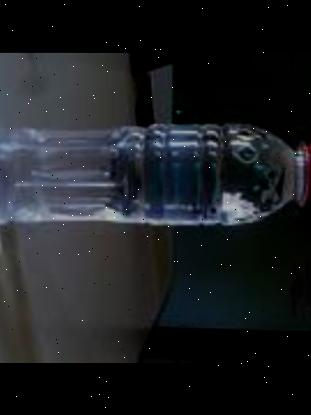Plastic Bottle: (0, 119, 311, 227)
